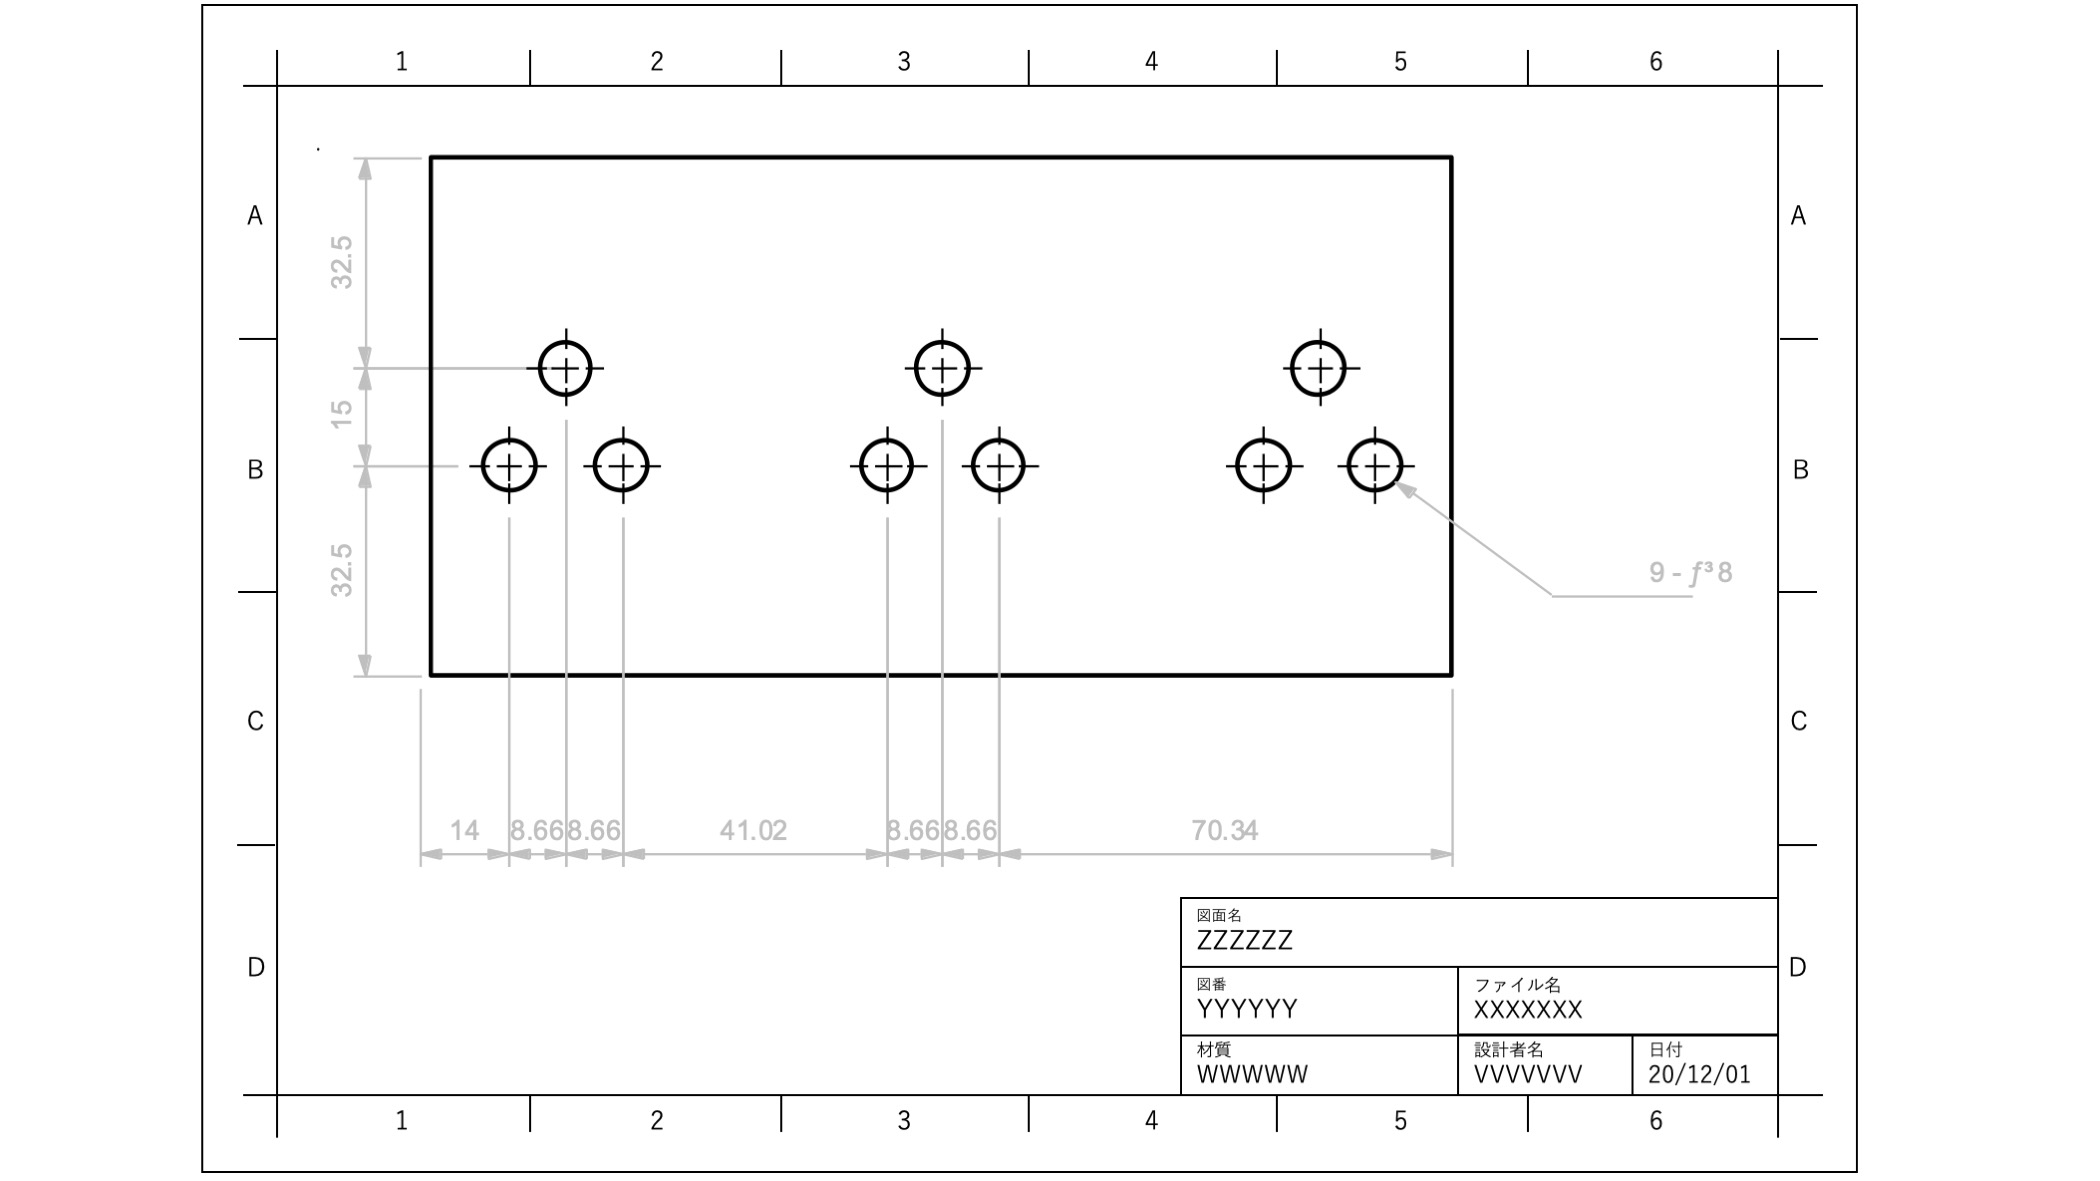circle: (909, 326, 979, 401), (529, 324, 600, 397), (963, 430, 1031, 497), (1284, 332, 1349, 399), (1227, 430, 1294, 495), (851, 430, 916, 495), (477, 427, 538, 496), (590, 430, 652, 496), (1346, 430, 1405, 496)
